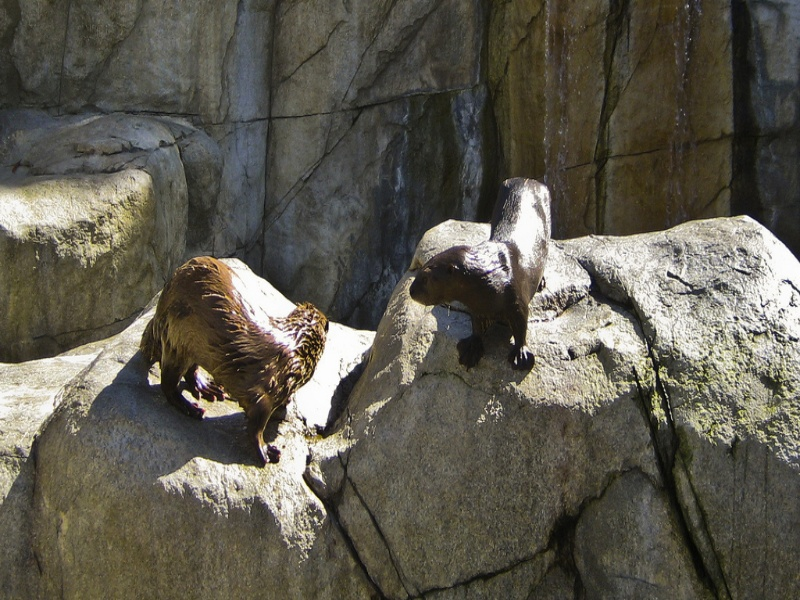minkish: (135, 250, 331, 469), (408, 173, 573, 374)
